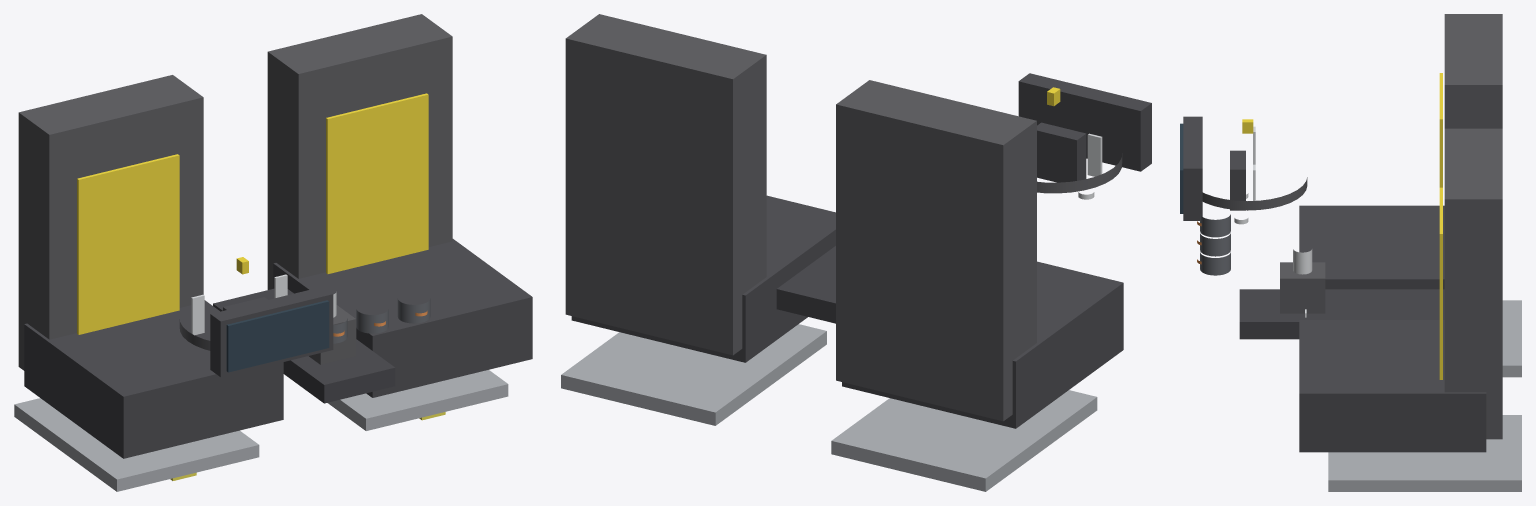
Rendered from ttrs_iconic_cockpit_assembly.glb.
3 views of the same model, side by side, from view 1: azimuth 30°, elevation 25°; view 2: azimuth 150°, elevation 25°; view 3: azimuth 270°, elevation 25° (orthographic). The views are drawn at different scales.
Parts seen in each view (by area): view 1: node_seat_driver_back, node_seat_pass_back, node_seat_driver_base, node_seat_pass_base, node_seat_driver_stitch, node_seat_pass_stitch, node_rail_driver_steel, node_rail_pass_steel, node_vc_screen, node_console_carbon_body, node_vc_bezel, node_shifter_boot (+2 smaller); view 2: node_seat_pass_back, node_seat_driver_back, node_rail_driver_steel, node_rail_pass_steel, node_seat_driver_base, node_seat_pass_base, node_vc_bezel, node_console_carbon_body, node_driver_airbag_module, node_steering_rim, node_paddle_left; view 3: node_seat_pass_base, node_seat_pass_back, node_seat_driver_base, node_rail_pass_steel, node_seat_driver_back, node_console_carbon_body, node_shifter_boot, node_vc_bezel, node_rail_driver_steel, node_steering_rim, node_driver_airbag_module, node_seat_pass_stitch (+5 smaller).
Part boxes in pixels (x1,y1,x2,y2): node_seat_driver_back: (18,75,203,370); node_seat_pass_back: (267,14,452,289); node_seat_driver_base: (24,300,283,458); node_seat_pass_base: (273,239,532,397); node_seat_driver_stitch: (77,154,179,334); node_seat_pass_stitch: (326,93,428,273); node_rail_driver_steel: (14,398,259,491); node_rail_pass_steel: (327,370,508,430); node_vc_screen: (226,300,329,372); node_console_carbon_body: (213,288,395,403); node_vc_bezel: (210,286,333,377); node_shifter_boot: (309,305,356,364); node_seat_pass_back: (565,14,766,355); node_seat_driver_back: (836,80,1036,421); node_rail_driver_steel: (831,390,1097,491); node_rail_pass_steel: (561,324,826,425); node_seat_driver_base: (842,261,1123,428); node_seat_pass_base: (571,195,835,362); node_vc_bezel: (1018,73,1151,171); node_console_carbon_body: (776,246,835,323); node_driver_airbag_module: (1037,122,1086,182); node_steering_rim: (1037,153,1122,193); node_paddle_left: (1087,133,1102,176); node_seat_pass_base: (1299,320,1486,452); node_seat_pass_back: (1444,128,1502,439); node_seat_driver_base: (1299,205,1444,289); node_rail_pass_steel: (1328,415,1521,491); node_seat_driver_back: (1444,14,1502,128); node_console_carbon_body: (1239,289,1444,339); node_shifter_boot: (1280,262,1325,313); node_vc_bezel: (1183,116,1202,220); node_rail_driver_steel: (1502,300,1521,377); node_steering_rim: (1202,177,1307,210); node_driver_airbag_module: (1230,150,1245,210); node_seat_pass_stitch: (1439,187,1442,379).
Bounding box in the file's own units: 1.38 × 1.03 × 1.06.
